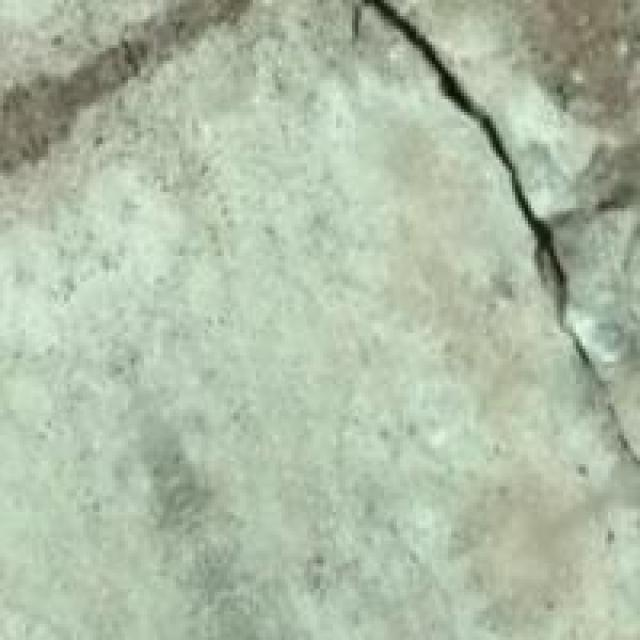Crack: (336, 0, 637, 403)
